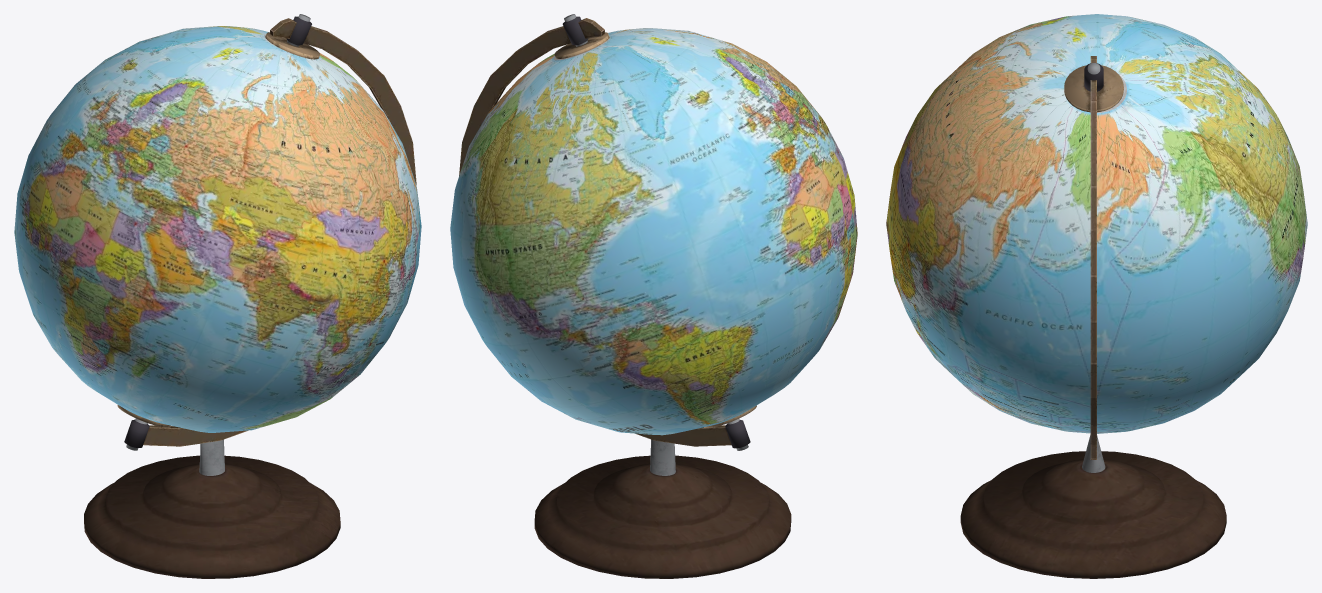
Rendered from globe-transformed.glb.
3 views of the same model, side by side, from view 1: azimuth 30°, elevation 25°; view 2: azimuth 150°, elevation 25°; view 3: azimuth 270°, elevation 25° (orthographic). The views are drawn at different scales.
Parts seen in each view (by area): view 1: Cylinder__0; view 2: Cylinder__0; view 3: Cylinder__0.
Boxes of the visible parts, x1,y1,x2,y2 form: Cylinder__0: (14,14,421,578); Cylinder__0: (450,14,857,578); Cylinder__0: (886,14,1307,578).
Size of the model in its own units: 322 by 404 by 306.
Materials: 1 (1 with a texture image).
